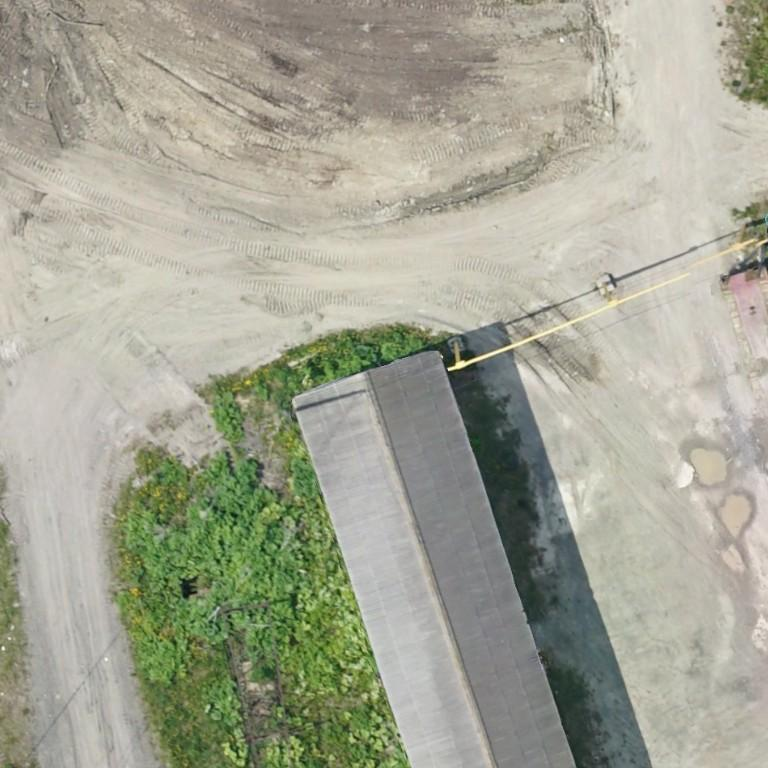hogweed: (119, 453, 301, 685), (273, 331, 425, 407), (216, 393, 242, 437), (292, 459, 319, 501)
